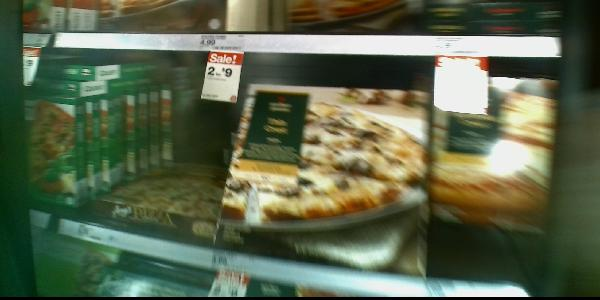pizza: (216, 78, 427, 278), (433, 74, 545, 280)
pizza1: (24, 69, 80, 212)
